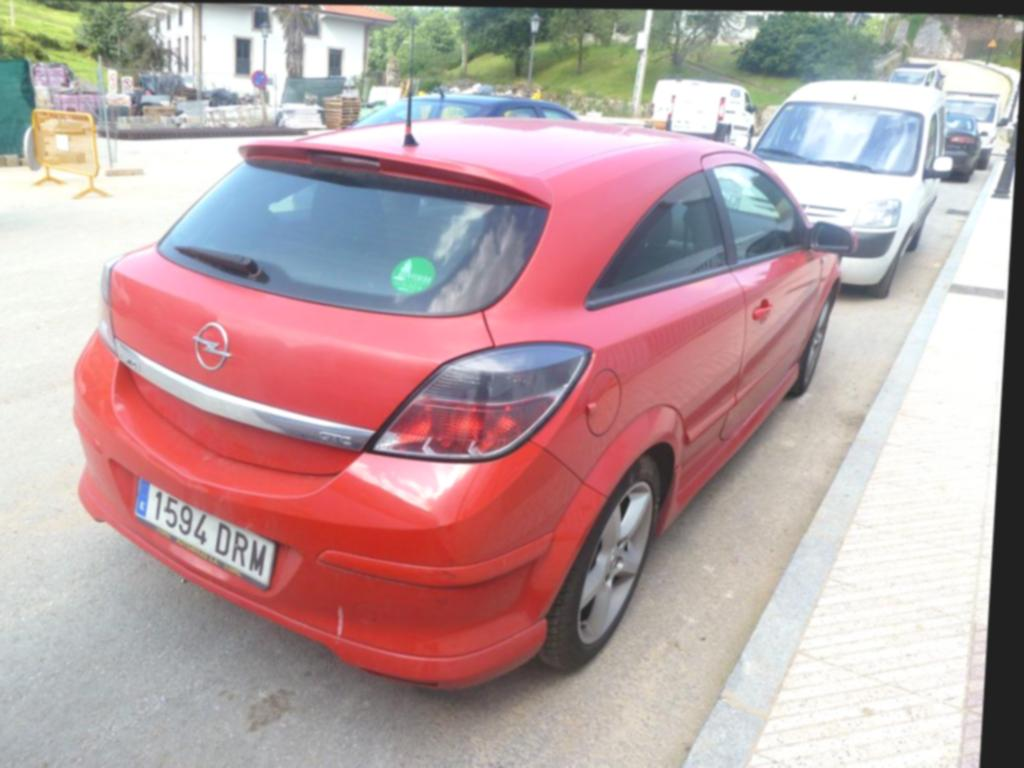License_Plate: (129, 477, 282, 590)
